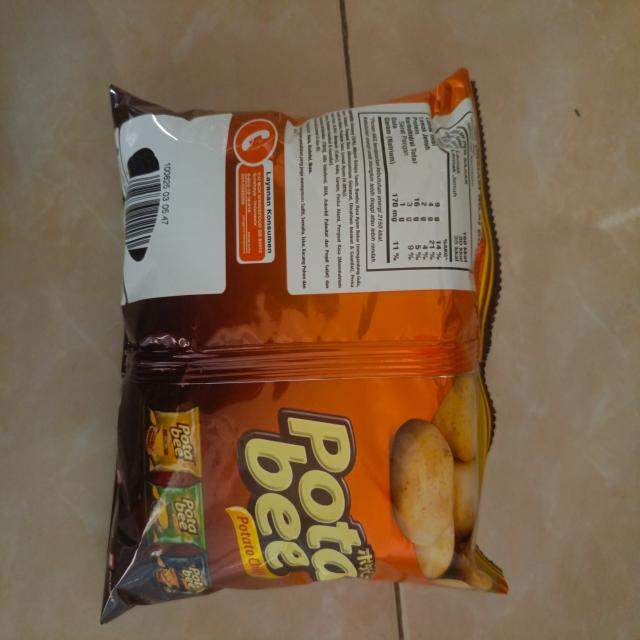potabee-ayam-bakar: (99, 69, 512, 622)
